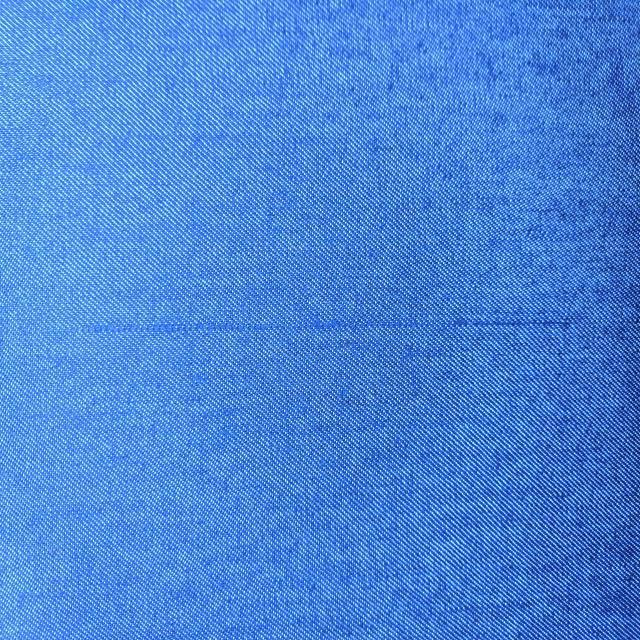Line: (65, 311, 580, 336)
